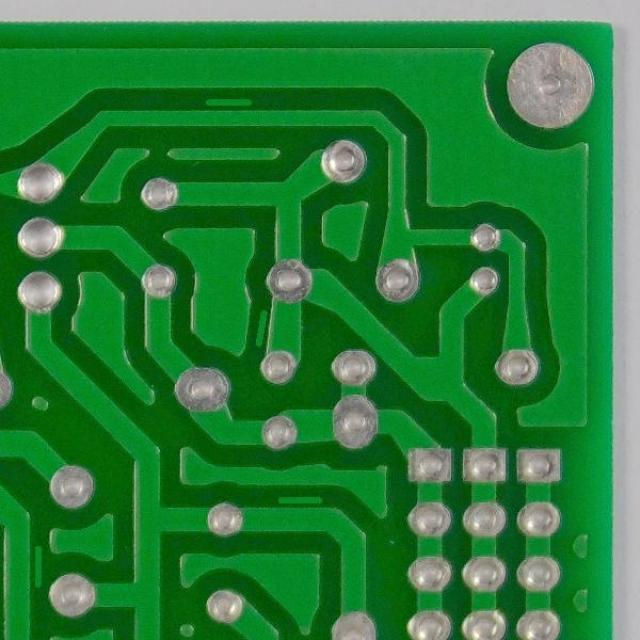Spurious_Cooper: (198, 93, 257, 111), (251, 303, 272, 351), (30, 540, 46, 592), (273, 492, 326, 506)
